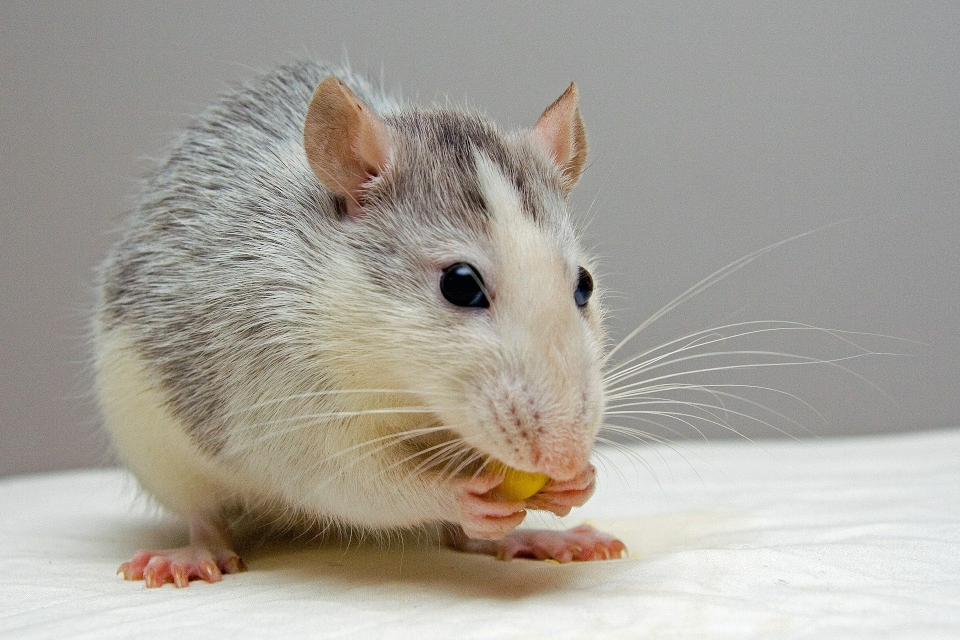rat: (55, 29, 712, 606)
